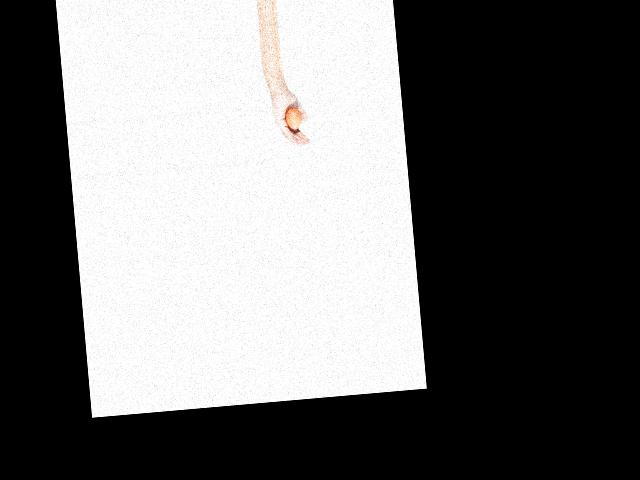egg: (284, 107, 302, 130)
